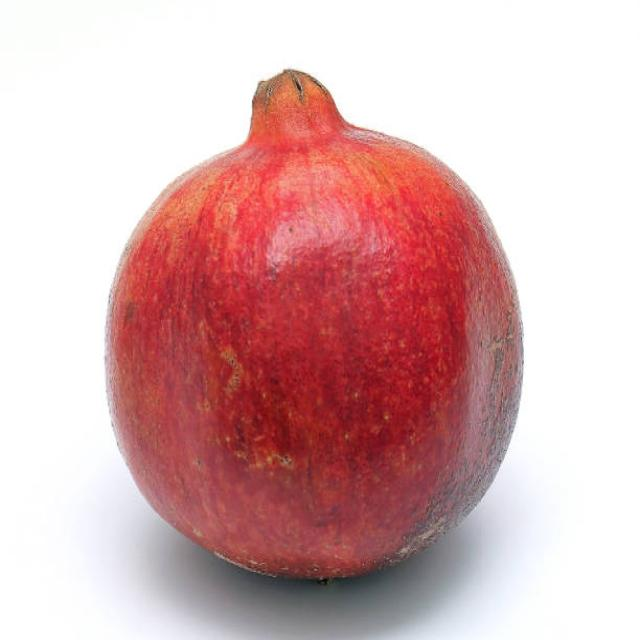Ripe: (100, 66, 527, 591)
